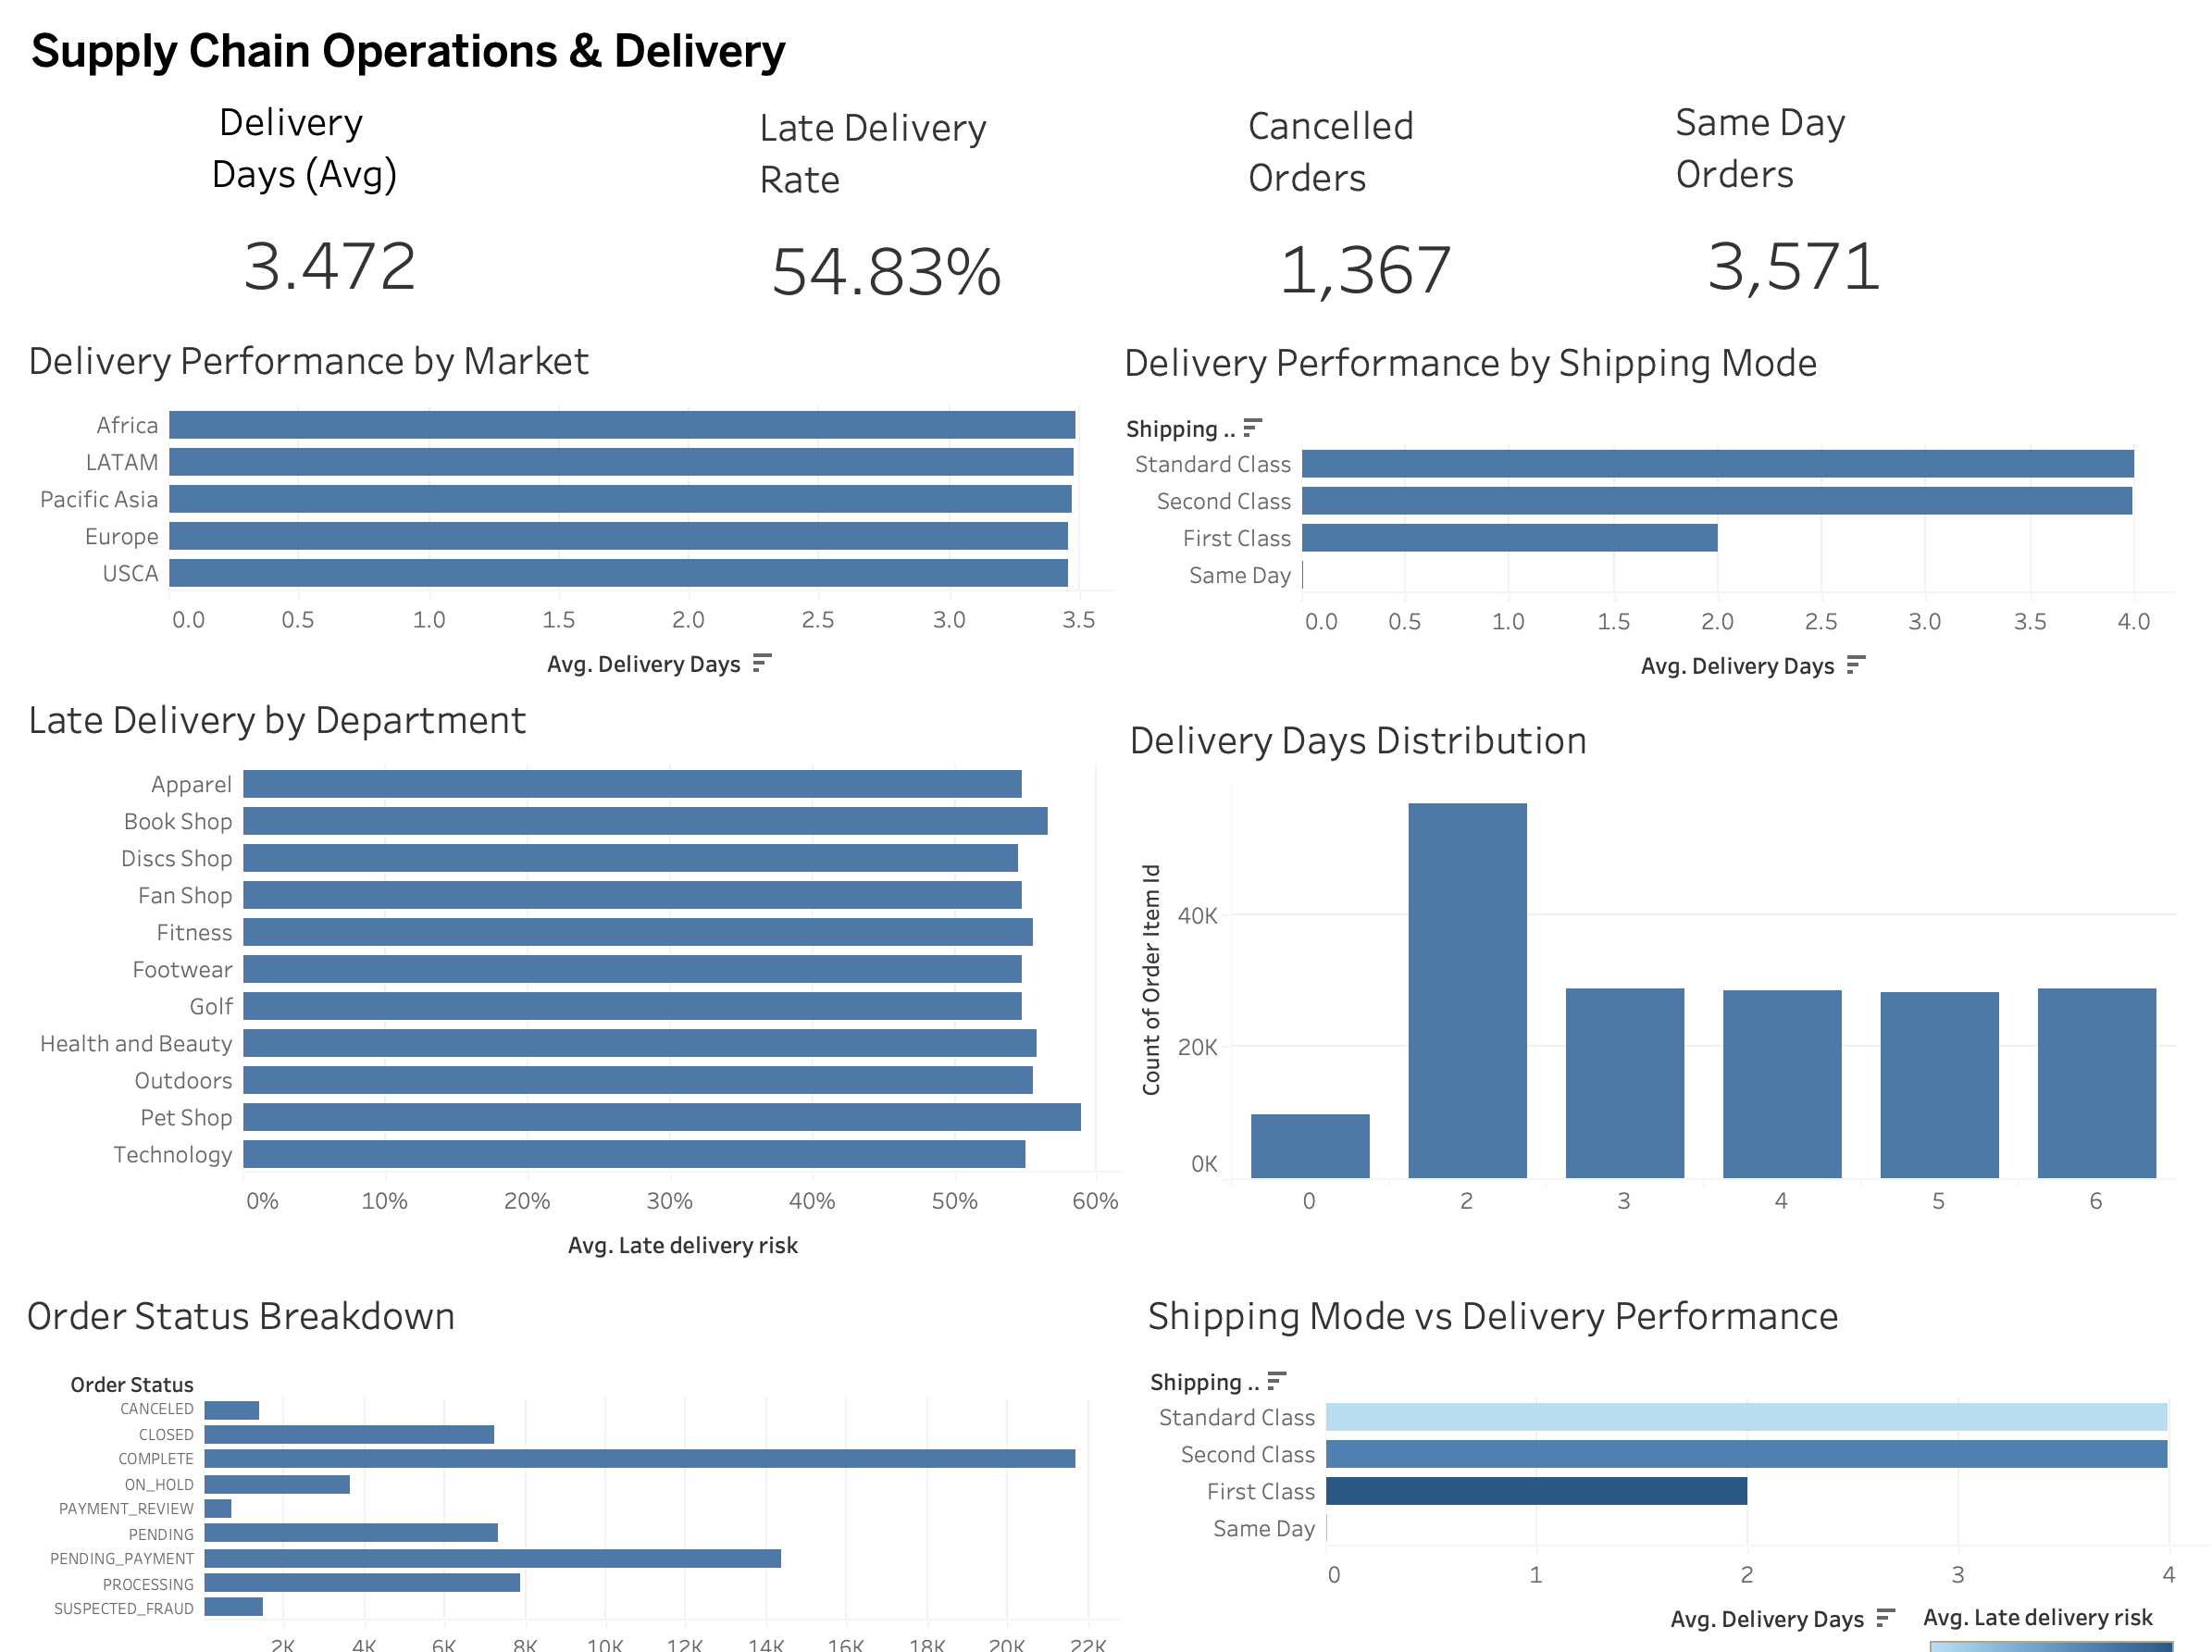

The dashboard page shown, as its layout file describes it:
{"tool":"tableau","page":{"name":"Dashboard 2","canvas":[1200,950],"ordinal":1},"visuals":[{"type":"title","box":[8,8,1184,39]},{"type":"worksheet","title":"Average Delivery Days","mark":"Automatic","box":[108,47,288,125]},{"type":"worksheet","title":"Same Day Orders","mark":"Automatic","box":[899,47,296,138]},{"type":"worksheet","title":"Cancelled Orders","mark":"Automatic","box":[668,49,281,128]},{"type":"worksheet","title":"Late Delivery Rate","mark":"Automatic","box":[404,50,252,121]},{"type":"worksheet","title":"Delivery Performance by Market","mark":"Automatic","rows":["Market"],"cols":["delivery_days"],"box":[9,176,594,253]},{"type":"worksheet","title":"Delivery Performance by Shipping Mode","mark":"Automatic","rows":["Shipping Mode"],"cols":["delivery_days"],"box":[601,177,572,250]},{"type":"worksheet","title":"Late Delivery by Department","mark":"Automatic","rows":["Department Name"],"cols":["Late_delivery_risk"],"box":[9,370,596,321]},{"type":"worksheet","title":"Delivery Days Distribution","mark":"Automatic","rows":["Order Item Id"],"cols":["delivery_days"],"box":[604,381,570,277]},{"type":"worksheet","title":"Order Status Breakdown","mark":"Automatic","rows":["Order Status"],"cols":["Order Id"],"box":[8,692,595,236]},{"type":"worksheet","title":"Shipping Mode vs Delivery Performance","mark":"Automatic","rows":["Shipping Mode"],"cols":["delivery_days"],"box":[614,692,578,236]},{"type":"legend","title":"Shipping Mode vs Delivery Performance","param":"[federated.00n1ou20f8ncmd13ch6sb16vhr1s].[avg:Late_delivery_risk:qk]","box":[1037,865,140,64]}]}

Visuals, with their boxes on the page's 1200x950 design canvas (x1, y1, x2, y2). These are canvas units, not pixel positions in the 2212x1652 screenshot, which may show the page scaled, cropped or inside an application window:
title: {"left": 8, "top": 8, "right": 1192, "bottom": 47}
"Average Delivery Days" worksheet: {"left": 108, "top": 47, "right": 396, "bottom": 172}
"Same Day Orders" worksheet: {"left": 899, "top": 47, "right": 1195, "bottom": 185}
"Cancelled Orders" worksheet: {"left": 668, "top": 49, "right": 949, "bottom": 177}
"Late Delivery Rate" worksheet: {"left": 404, "top": 50, "right": 656, "bottom": 171}
"Delivery Performance by Market" worksheet: {"left": 9, "top": 176, "right": 603, "bottom": 429}
"Delivery Performance by Shipping Mode" worksheet: {"left": 601, "top": 177, "right": 1173, "bottom": 427}
"Late Delivery by Department" worksheet: {"left": 9, "top": 370, "right": 605, "bottom": 691}
"Delivery Days Distribution" worksheet: {"left": 604, "top": 381, "right": 1174, "bottom": 658}
"Order Status Breakdown" worksheet: {"left": 8, "top": 692, "right": 603, "bottom": 928}
"Shipping Mode vs Delivery Performance" worksheet: {"left": 614, "top": 692, "right": 1192, "bottom": 928}
"Shipping Mode vs Delivery Performance" legend: {"left": 1037, "top": 865, "right": 1177, "bottom": 929}
